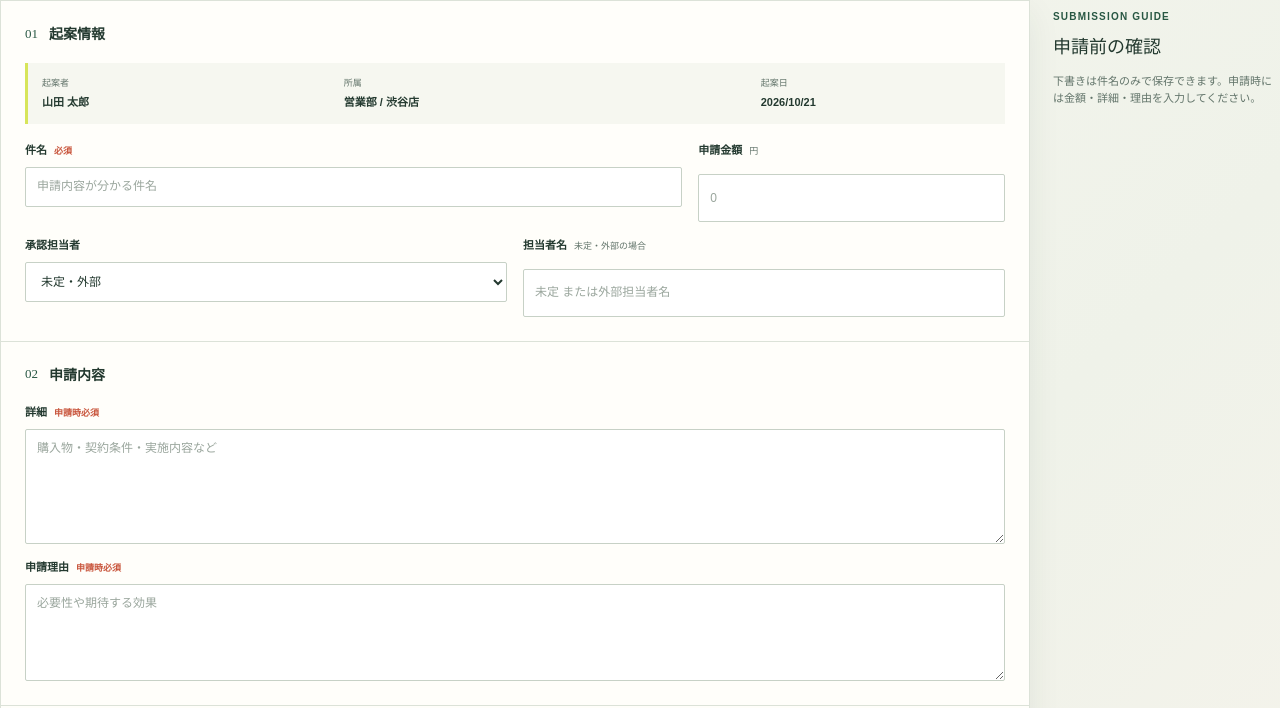
ApprovalForm › requires amount, detail, and reason before submitting
The width and height of the screenshot is (1280, 708).
Type "備品購入の申請" into the field labelled "件名 必須" at (354, 187), box [25, 167, 682, 207]
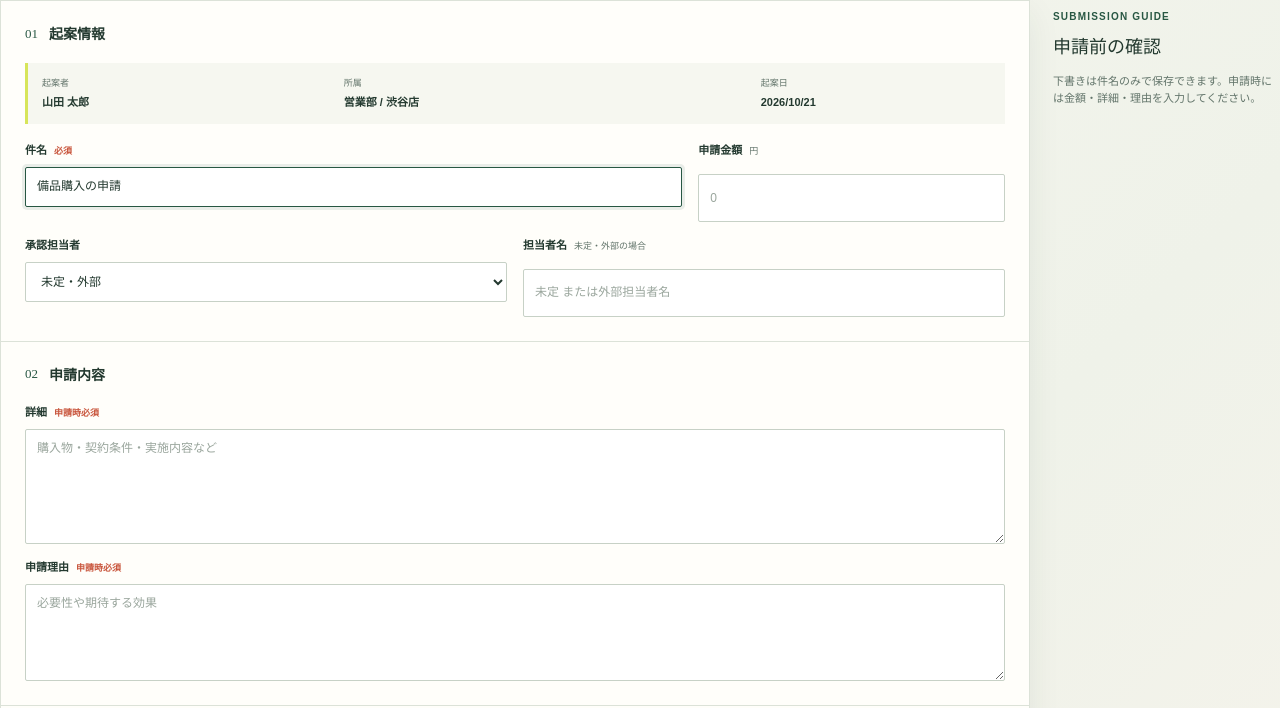
Type "1250" into the number field labelled "申請金額 円" at (852, 198), box [698, 174, 1005, 222]
(page scrolled)
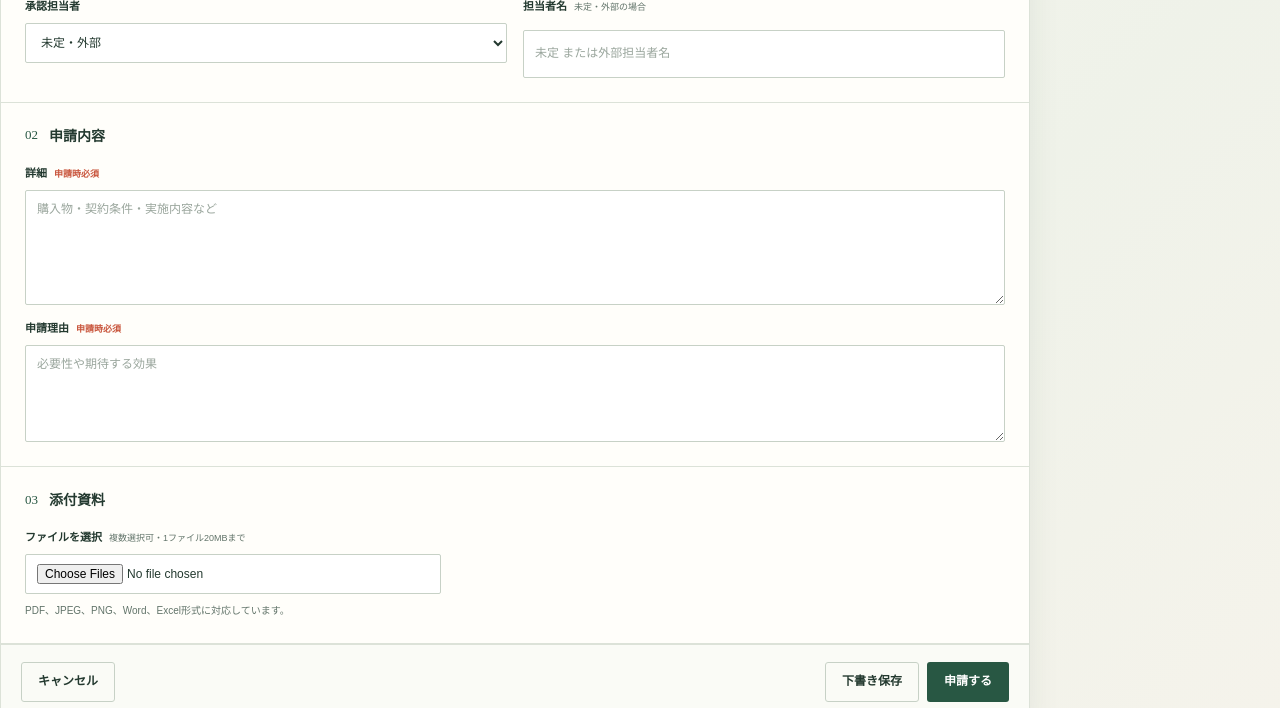
Click the button "申請する" at (968, 682), box [927, 662, 1009, 702]
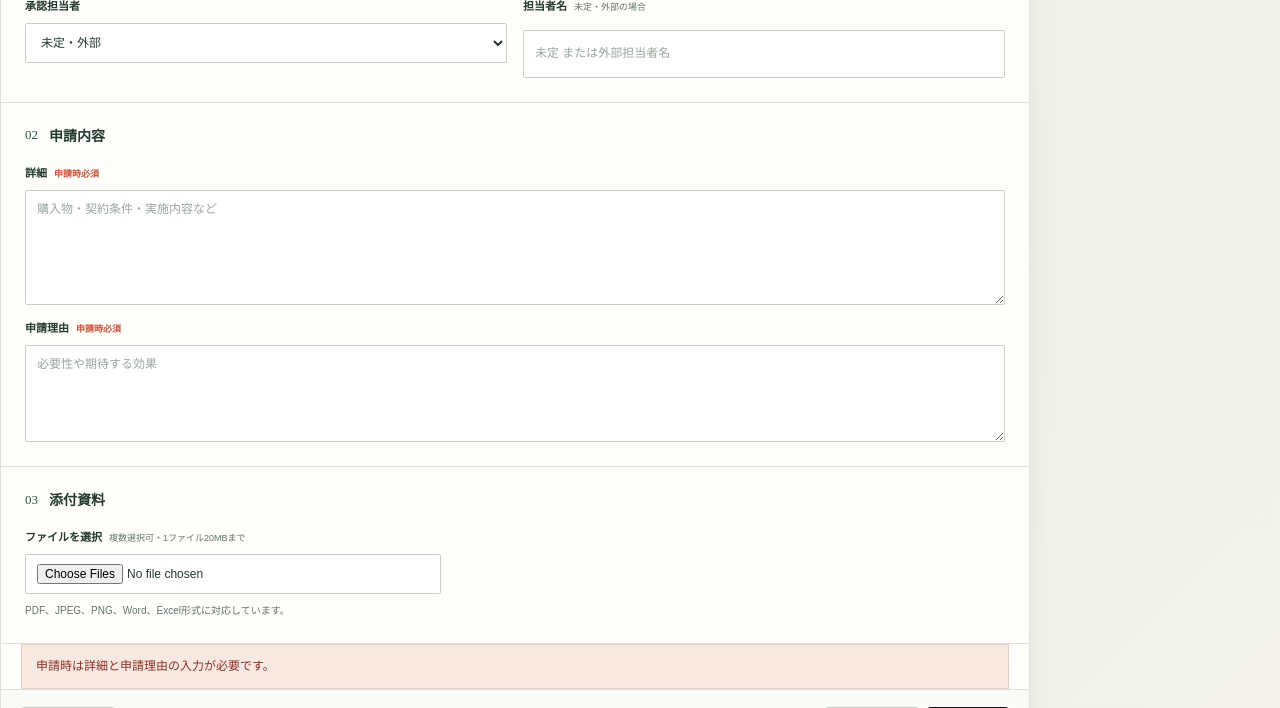
Check: the message reads "申請時は詳細と申請理由の入力が必要です。", box [36, 659, 275, 673]
